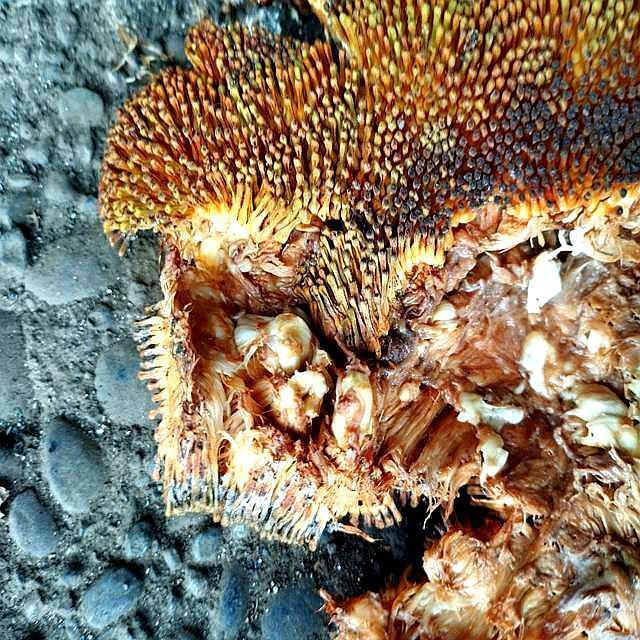Biodegradable: (115, 1, 640, 640)
